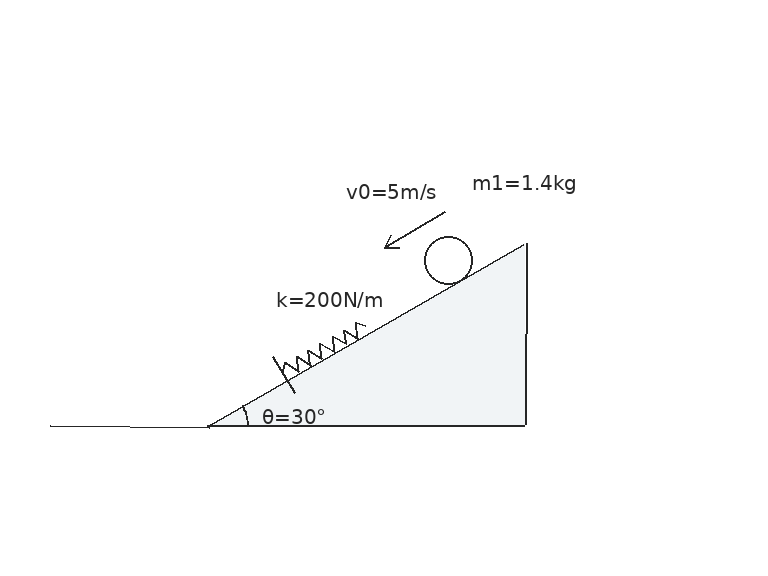ball: (422, 234, 474, 286)
ramp: (206, 241, 527, 428)
spring: (281, 320, 367, 374)
